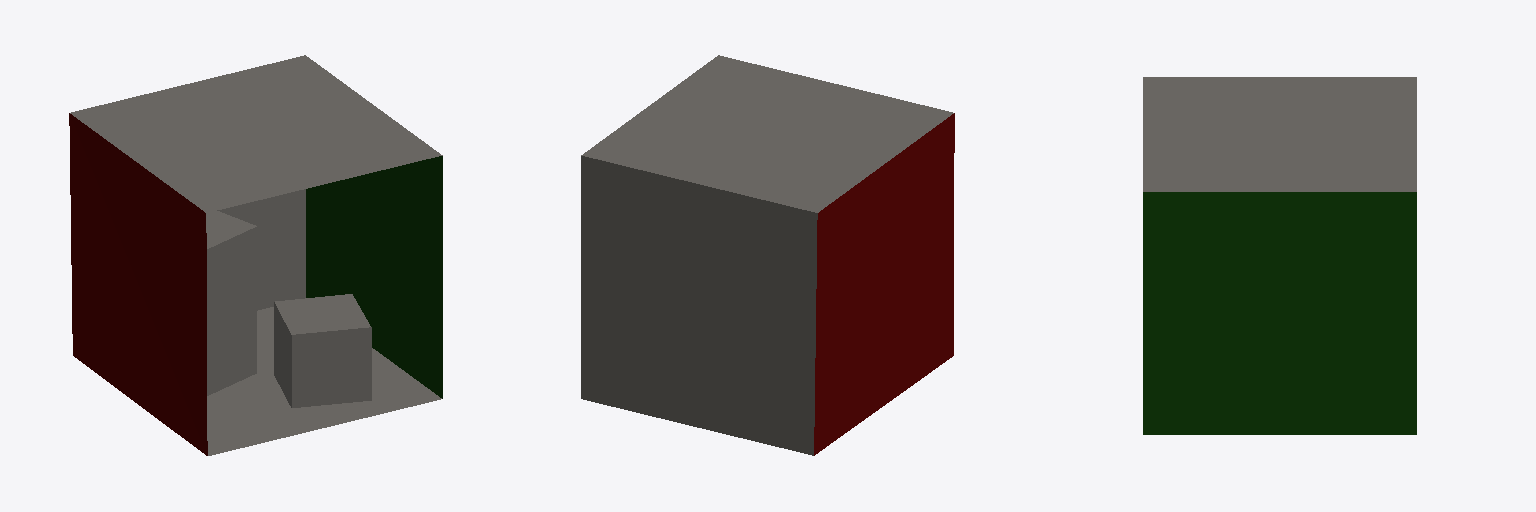
File: CornellBox2.obj
The picture shows the model from 3 angles: view 1: azimuth 30°, elevation 25°; view 2: azimuth 150°, elevation 25°; view 3: azimuth 270°, elevation 25°; orthographic projection.
Parts seen in each view (by area): view 1: leftWall, ceiling, rightWall, floor, shortBox, backWall; view 2: backWall, leftWall, ceiling; view 3: rightWall, ceiling.
Part boxes in pixels (left/top/right/bottom): leftWall: left=69, top=113, right=371, bottom=455; ceiling: left=70, top=55, right=442, bottom=212; rightWall: left=306, top=156, right=442, bottom=398; floor: left=207, top=307, right=441, bottom=455; shortBox: left=206, top=211, right=256, bottom=395; backWall: left=217, top=189, right=305, bottom=310; backWall: left=581, top=156, right=817, bottom=455; leftWall: left=814, top=113, right=954, bottom=455; ceiling: left=581, top=55, right=953, bottom=212; rightWall: left=1143, top=192, right=1416, bottom=434; ceiling: left=1143, top=77, right=1416, bottom=191.
Bounding box in the file's own units: 2.02 × 1.99 × 2.03.